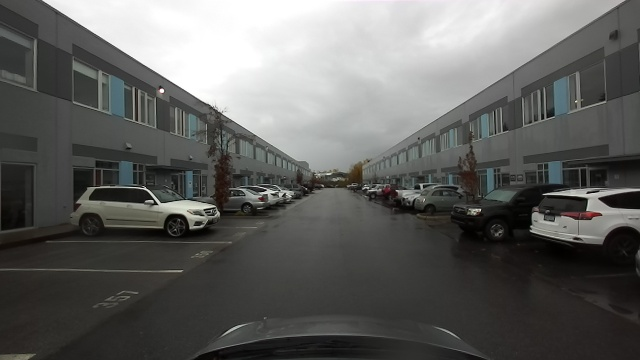car: (70, 180, 221, 239), (529, 188, 637, 263), (448, 181, 532, 243), (412, 184, 458, 215), (227, 185, 266, 216), (263, 183, 289, 205), (397, 181, 410, 206)
